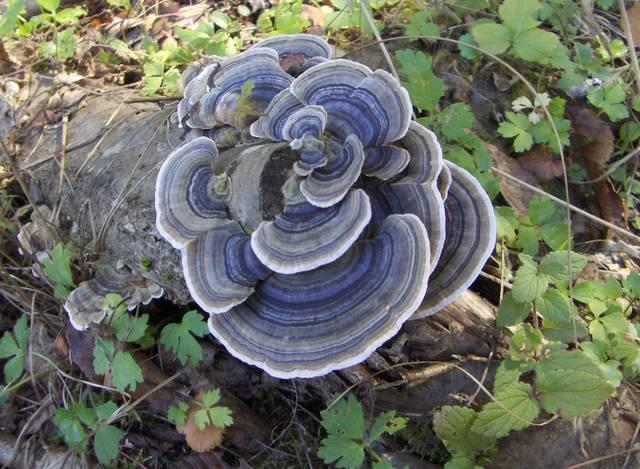Non-edible Mushroom: (152, 32, 497, 380)
